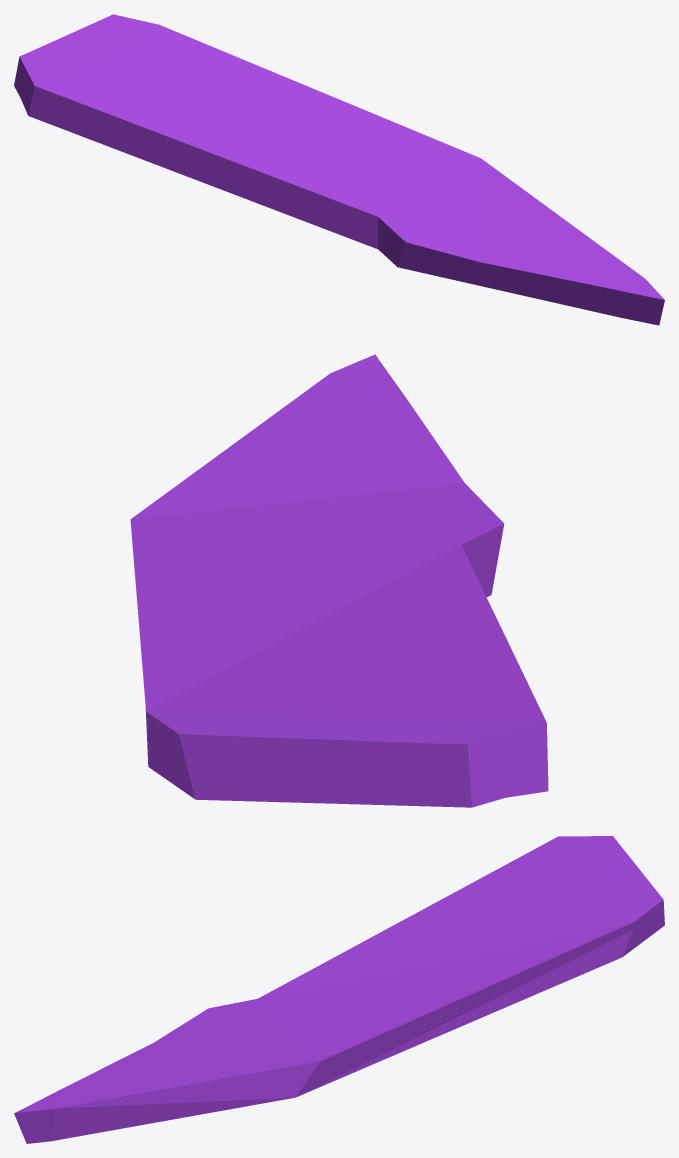
Rendered from Glass_100_3_4_chunks.fbx.
3 renders of one model, top to bottom at view 1: azimuth 30°, elevation 25°; view 2: azimuth 150°, elevation 25°; view 3: azimuth 270°, elevation 25°, orthographic. The views are drawn at different scales.
Visible parts, largest first — view 1: Glass_100_3_4_2, Glass_100_3_4_0, Glass_100_3_4_3; view 2: Glass_100_3_4_0, Glass_100_3_4_2, Glass_100_3_4_3; view 3: Glass_100_3_4_3, Glass_100_3_4_2, Glass_100_3_4_0, Glass_100_3_4_1.
Boxes of the visible parts, bbox=[...] form: Glass_100_3_4_2: bbox=[315, 165, 664, 325]; Glass_100_3_4_0: bbox=[14, 23, 331, 228]; Glass_100_3_4_3: bbox=[94, 14, 489, 168]; Glass_100_3_4_0: bbox=[215, 577, 548, 807]; Glass_100_3_4_2: bbox=[143, 354, 504, 596]; Glass_100_3_4_3: bbox=[130, 511, 369, 800]; Glass_100_3_4_3: bbox=[306, 887, 664, 1070]; Glass_100_3_4_2: bbox=[14, 969, 349, 1143]; Glass_100_3_4_0: bbox=[313, 836, 653, 983]; Glass_100_3_4_1: bbox=[232, 1057, 358, 1108].
Size of the model in its own units: 408 by 149 by 634.
